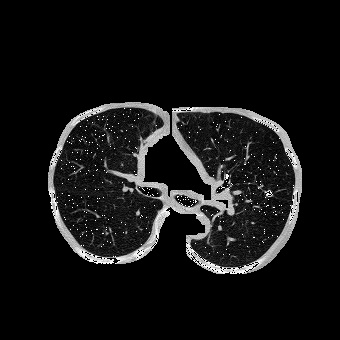PN: (265, 189, 273, 197)
